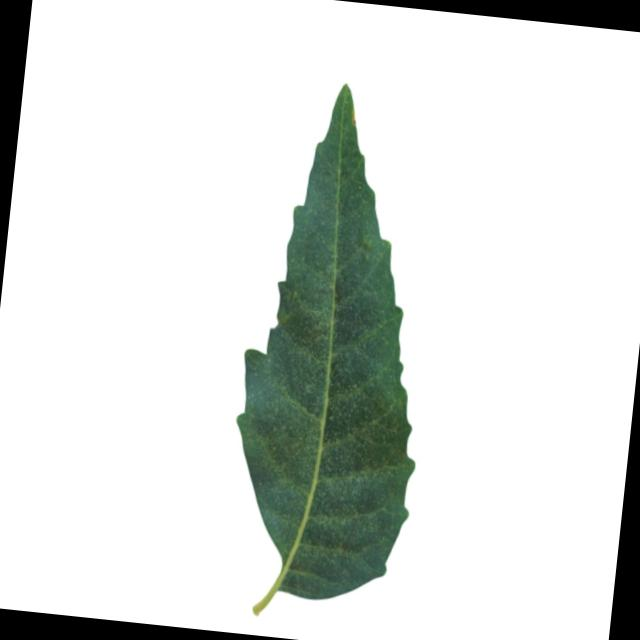Medicinal-Neem: (215, 72, 452, 628)
